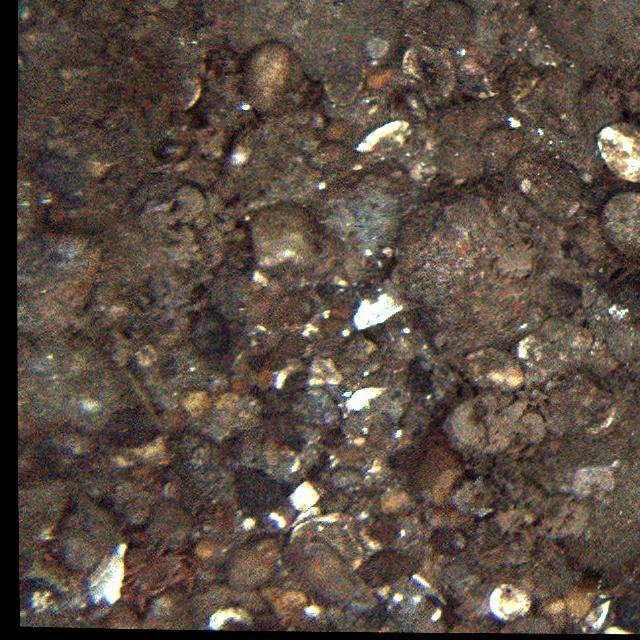crab: (114, 532, 200, 612)
